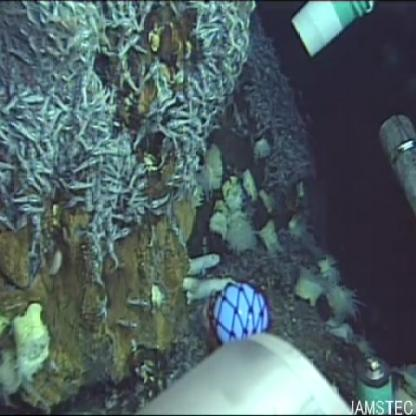Bio: (1, 1, 255, 234), (179, 250, 239, 301)
Rov: (134, 282, 342, 416)
